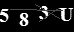3: (38, 5, 48, 20)
5: (1, 8, 9, 22)
8: (18, 13, 30, 27)
U: (57, 8, 74, 21)
